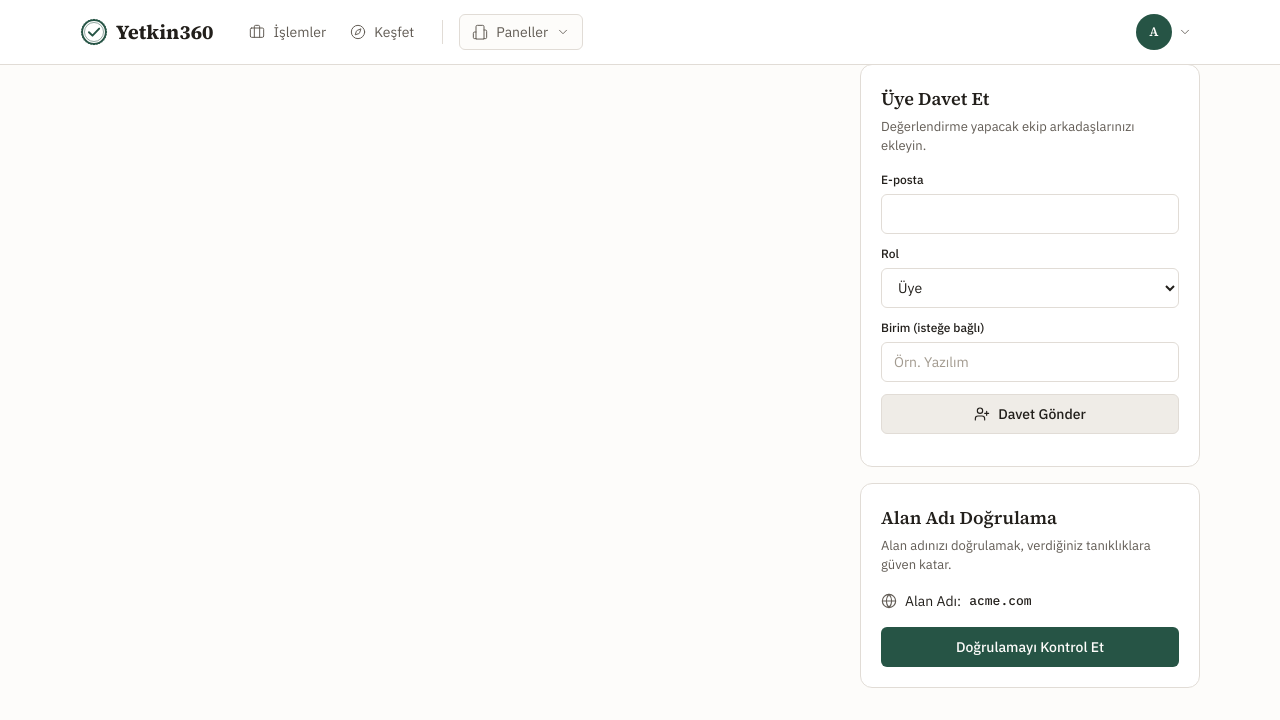
Scenario: KurulusPanelPage (/kurulus/[id]/panel) › Alan adı doğrulama bölümü › kontrol edince pending dönerse TXT kaydı + pending mesajı gösterilir, buton Tekrar Dene'ye döner
This screenshot has width=1280, height=720.
(page scrolled)
What coordinates should you click on to do the following:
click the button "Doğrulamayı Kontrol Et"
I would click on:
 (1030, 646)
Its box is 881,626 -> 1179,666.
(page scrolled)
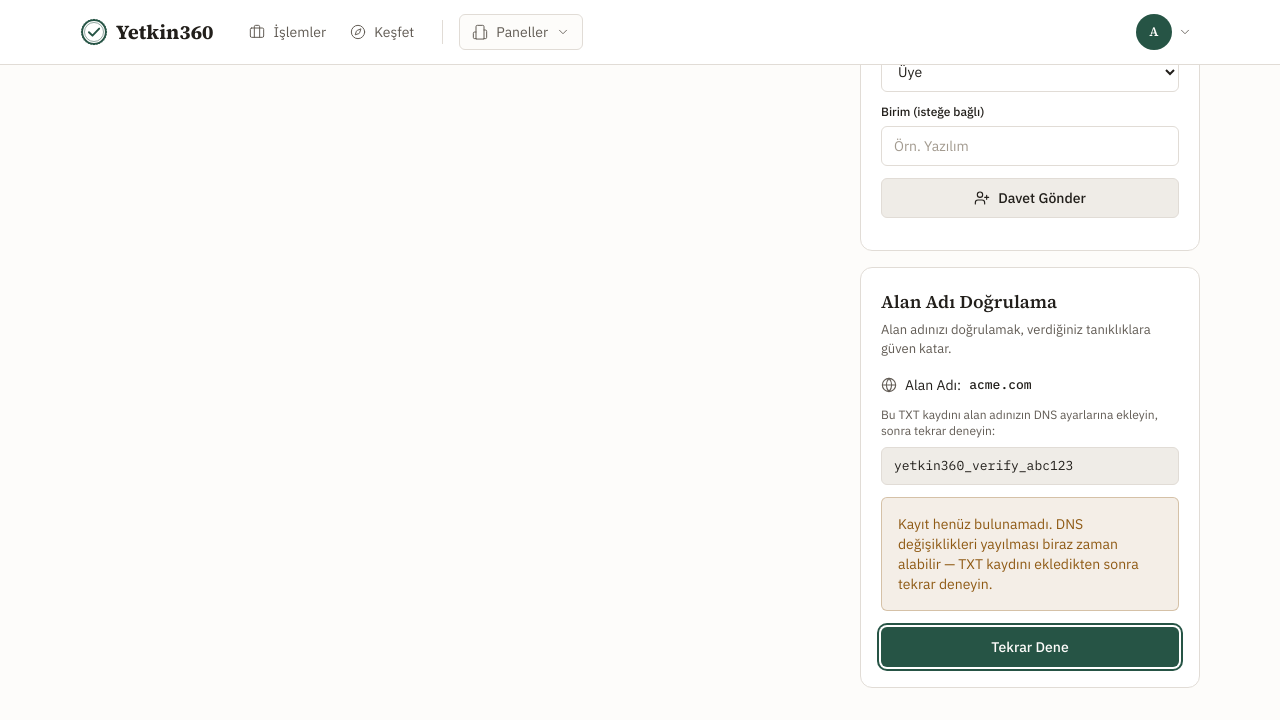
Result: the text "yetkin360_verify_abc123" is shown at 881,446 -> 1179,484
Result: the text "Kayıt henüz bulunamadı" is shown at 898,514 -> 1139,592
Result: the button "Tekrar Dene" is shown at 881,626 -> 1179,666
